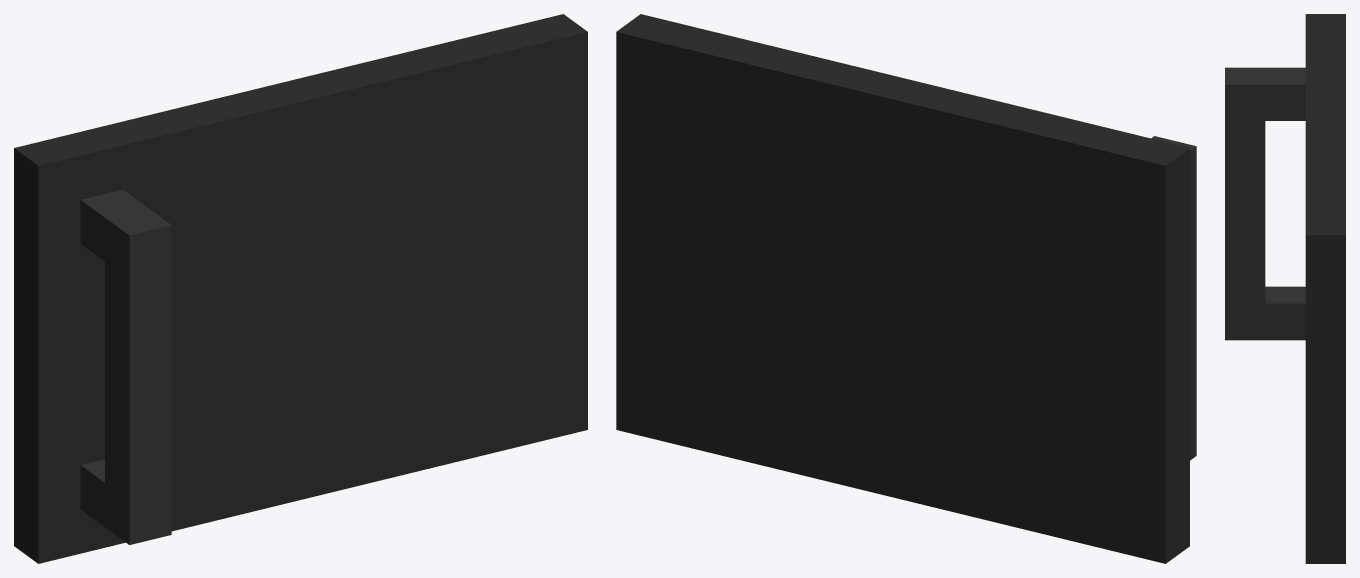
File: Decor-39.obj
The picture shows the model from 3 angles, left to right: view 1: azimuth 30°, elevation 25°; view 2: azimuth 150°, elevation 25°; view 3: azimuth 270°, elevation 25°; orthographic projection. The views are drawn at different scales.
Bounding box in the file's own units: 1.3 × 0.9 × 0.3.
Materials: 1 (1 with a texture image).
